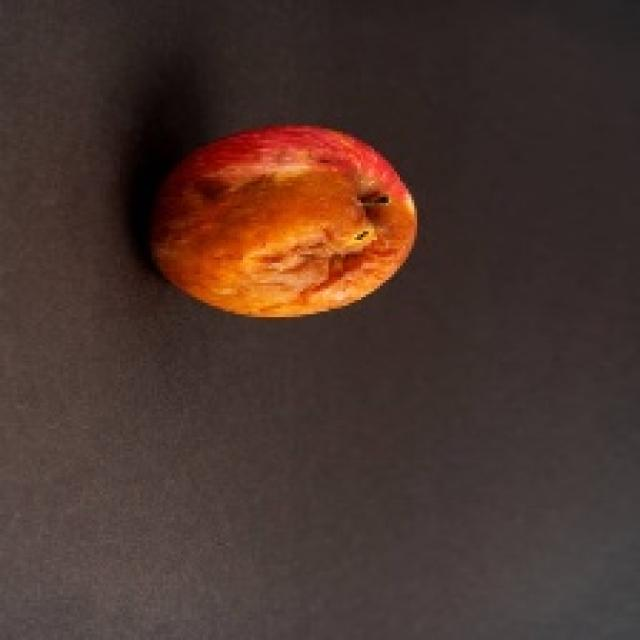rotten_apple: (154, 127, 416, 313)
